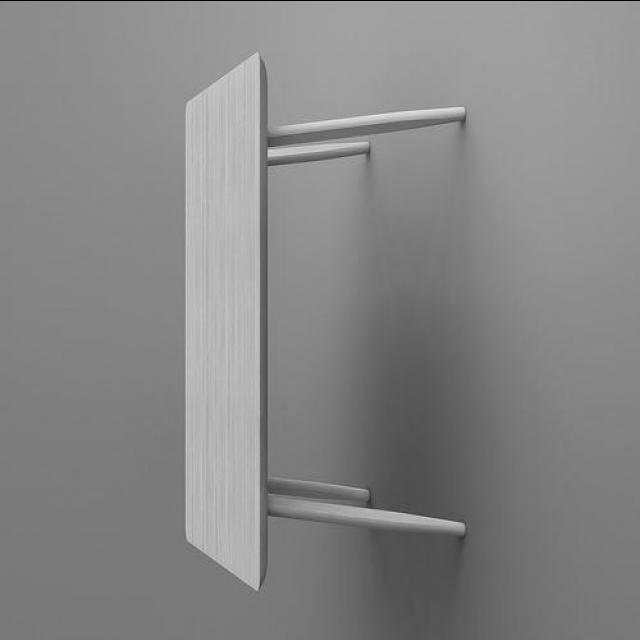table: (186, 51, 464, 592)
